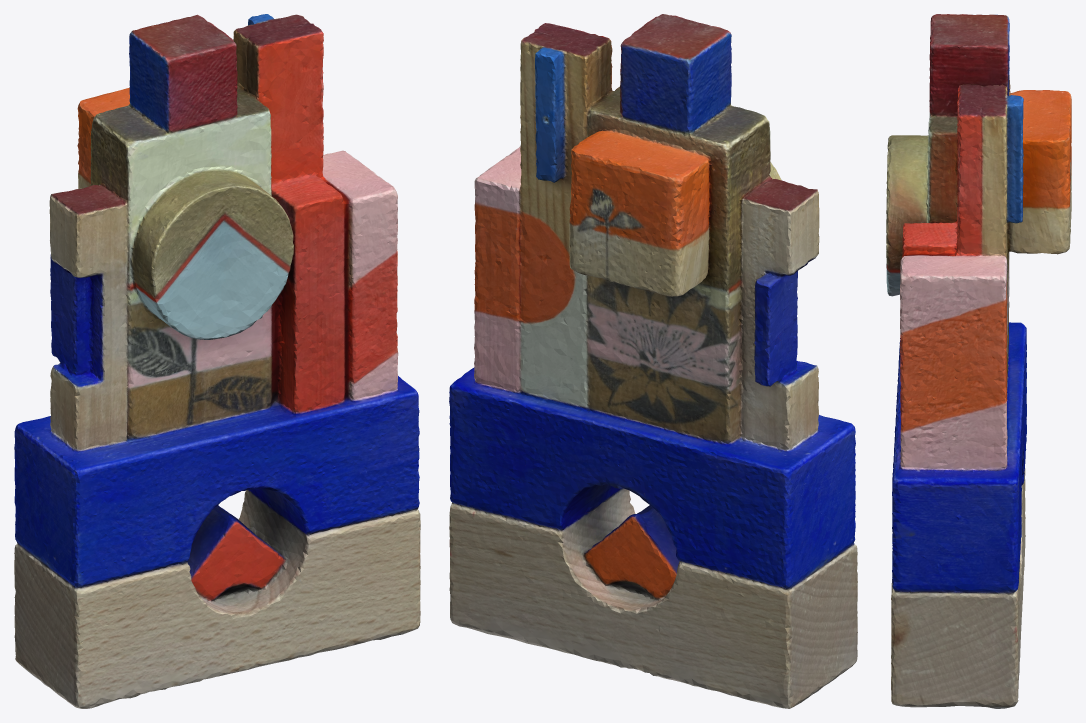
File: Kompleks_2.fbx
3 renders of one model, left to right at view 1: azimuth 30°, elevation 25°; view 2: azimuth 150°, elevation 25°; view 3: azimuth 270°, elevation 25°, orthographic. The views are drawn at different scales.
Parts seen in each view (by area): view 1: Object; view 2: Object; view 3: Object.
Part boxes in pixels (bbox=[...]): Object: bbox=[14, 14, 420, 708]; Object: bbox=[449, 14, 857, 708]; Object: bbox=[886, 14, 1071, 708].
Bounding box in the file's own units: 12.25 × 20.99 × 5.97.
1 material, 1 textured.
